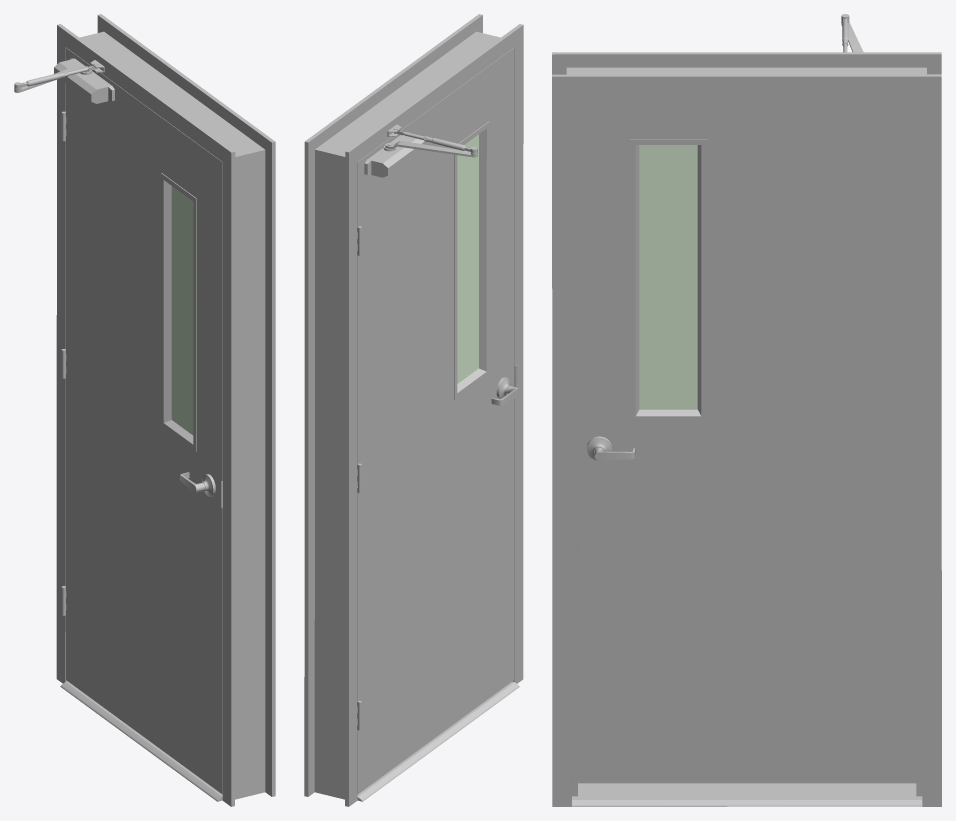
Rendered from frame_004.fbx.
3 renders of one model, left to right at view 1: azimuth 30°, elevation 25°; view 2: azimuth 150°, elevation 25°; view 3: azimuth 270°, elevation 25°, orthographic. The views are drawn at different scales.
Parts seen in each view (by area): view 1: door_004, frame_004, floor_plate_004, closer_door_004, handle_004, closer_hinge_frame_004; view 2: door_004, frame_004, floor_plate_004, closer_door_004, closer_hinge_door_004, handle_004, closer_hinge_frame_004; view 3: door_004, frame_004, floor_plate_004, handle_004.
Boxes of the visible parts, x1,y1,x2,y2 form: door_004: [61, 47, 222, 794]; frame_004: [56, 14, 275, 806]; floor_plate_004: [60, 681, 222, 801]; closer_door_004: [54, 58, 114, 103]; handle_004: [180, 472, 215, 496]; closer_hinge_frame_004: [14, 65, 97, 90]; door_004: [357, 48, 514, 793]; frame_004: [304, 14, 523, 806]; floor_plate_004: [357, 681, 519, 801]; closer_door_004: [364, 132, 425, 177]; closer_hinge_door_004: [385, 141, 477, 157]; handle_004: [491, 377, 520, 405]; closer_hinge_frame_004: [394, 130, 477, 155]; door_004: [577, 94, 916, 783]; frame_004: [552, 52, 941, 806]; floor_plate_004: [572, 783, 922, 806]; handle_004: [586, 436, 635, 460].
Size of the model in its own units: 43.61 by 210 by 102.
